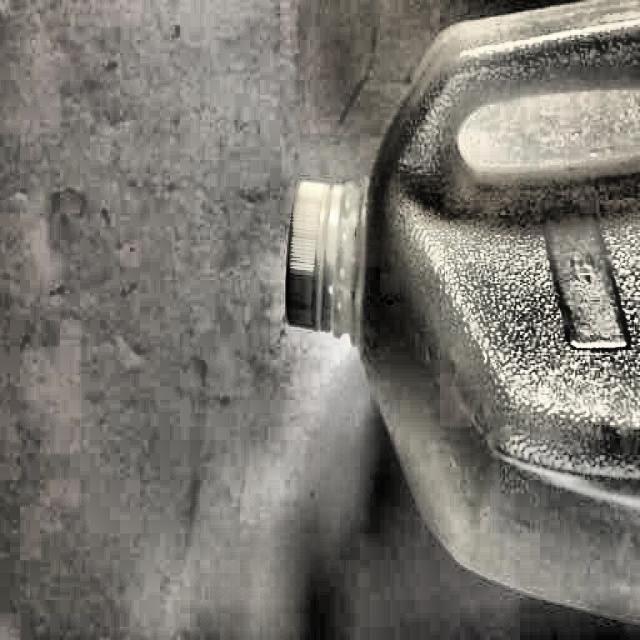plastic: (282, 0, 640, 640)
